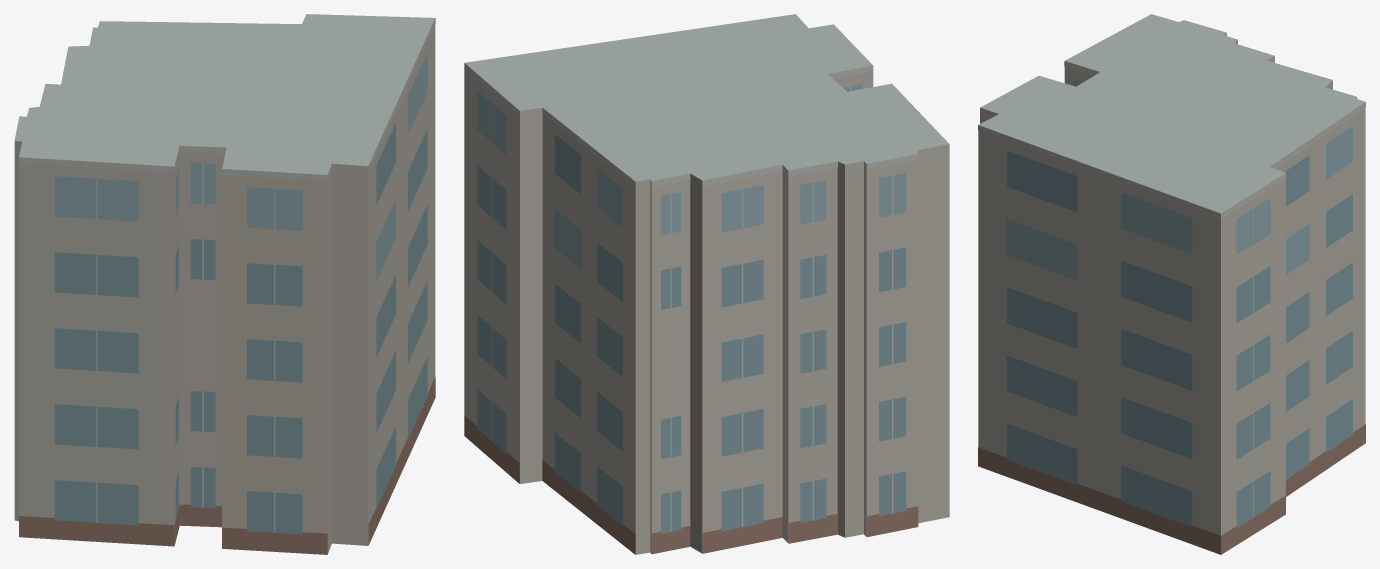
File: survey-upis-32793358.glb
3 renders of one model, left to right at view 1: azimuth 30°, elevation 25°; view 2: azimuth 150°, elevation 25°; view 3: azimuth 270°, elevation 25°, orthographic. The views are drawn at different scales.
Parts seen in each view (by area): view 1: survey-upis-32793358.tmp; view 2: survey-upis-32793358.tmp; view 3: survey-upis-32793358.tmp.
Boxes of the visible parts, box(x1,y1,x2,y2) form: survey-upis-32793358.tmp: box(14, 14, 435, 554); survey-upis-32793358.tmp: box(464, 14, 949, 554); survey-upis-32793358.tmp: box(978, 14, 1365, 554).
Size of the model in its own units: 18.69 by 14.9 by 15.34.
